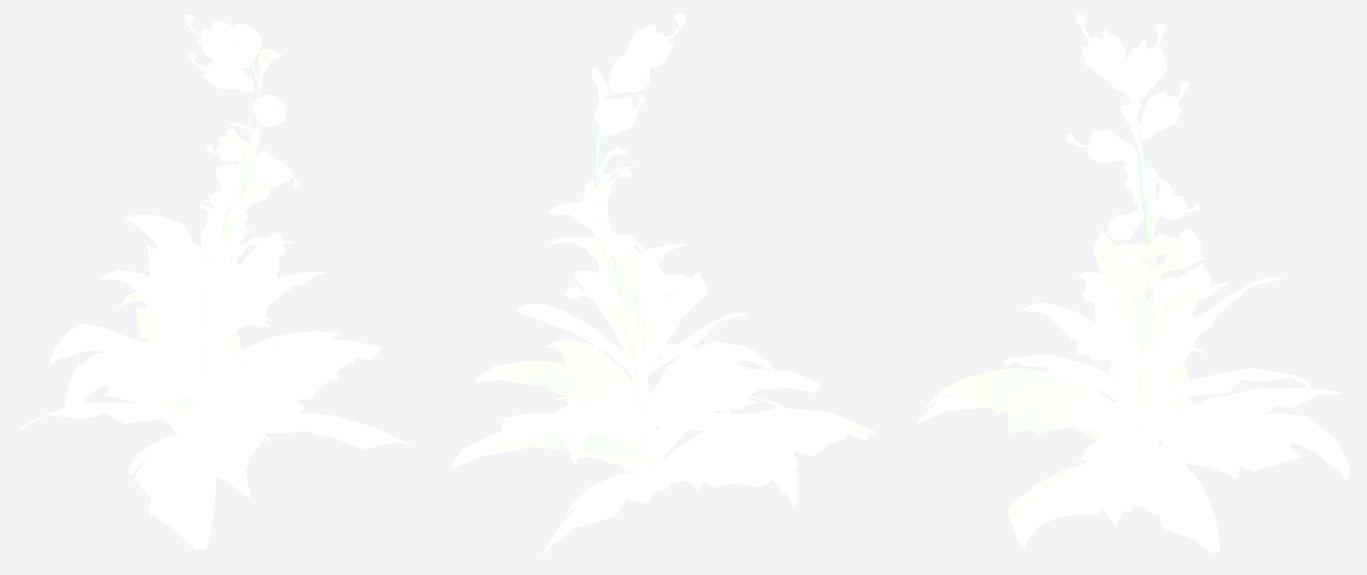
The picture shows the model from 3 angles, left to right: view 1: azimuth 30°, elevation 25°; view 2: azimuth 150°, elevation 25°; view 3: azimuth 270°, elevation 25°; orthographic projection. The views are drawn at different scales.
Visible parts, largest first — view 1: SM_BM_Fox_Glove_01_LOD0; view 2: SM_BM_Fox_Glove_01_LOD0; view 3: SM_BM_Fox_Glove_01_LOD0.
Boxes of the visible parts, x1,y1,x2,y2 form: SM_BM_Fox_Glove_01_LOD0: (18, 14, 410, 550); SM_BM_Fox_Glove_01_LOD0: (451, 14, 876, 555); SM_BM_Fox_Glove_01_LOD0: (917, 14, 1349, 553).
Size of the model in its own units: 0.4381 by 0.536 by 0.4591.
Materials: 1 (1 with a texture image).
